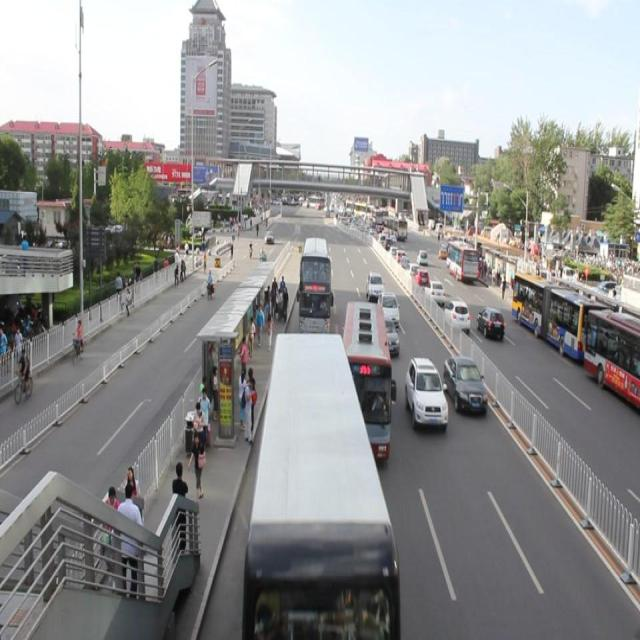car: (402, 356, 448, 432), (441, 349, 488, 414), (374, 308, 400, 357), (374, 287, 402, 326), (362, 268, 385, 302)
van: (235, 324, 409, 640), (332, 298, 399, 461), (292, 232, 338, 333)
